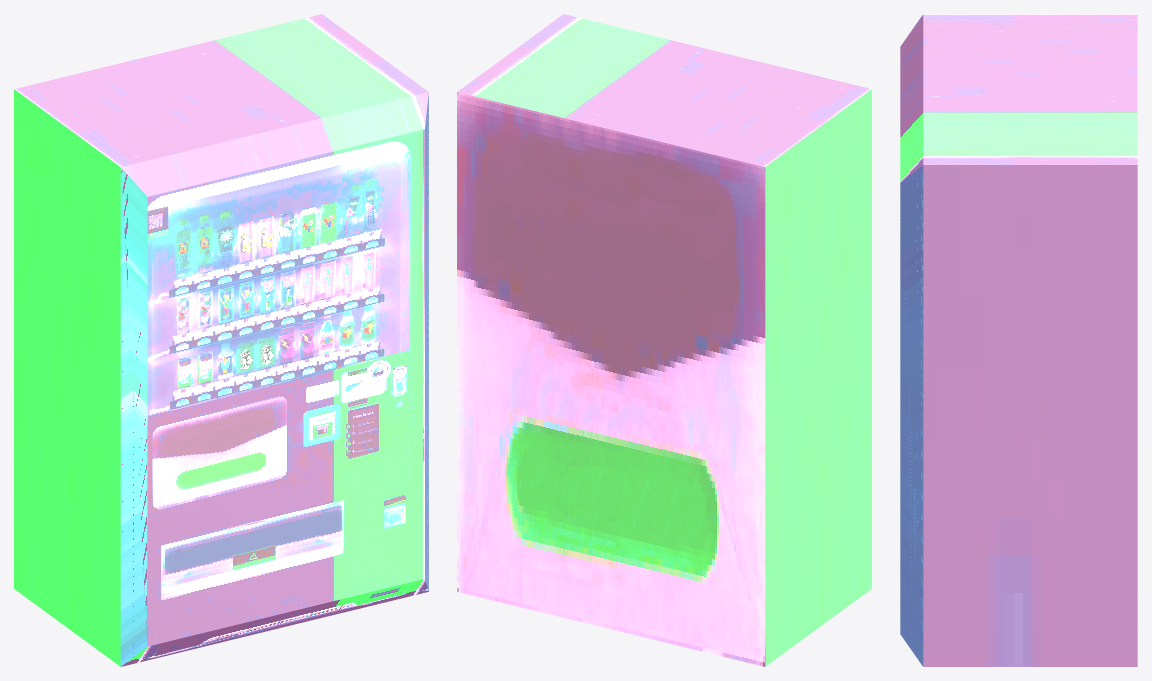
File: urn_vendmachine.glb
The picture shows the model from 3 angles, left to right: view 1: azimuth 30°, elevation 25°; view 2: azimuth 150°, elevation 25°; view 3: azimuth 270°, elevation 25°; orthographic projection.
Parts seen in each view (by area): view 1: urn_vendmachine; view 2: urn_vendmachine; view 3: urn_vendmachine.
Boxes of the visible parts, left/top/right/bottom form: urn_vendmachine: left=14, top=14, right=428, bottom=666; urn_vendmachine: left=457, top=14, right=871, bottom=666; urn_vendmachine: left=900, top=14, right=1137, bottom=666.
Bounding box in the file's own units: 2 × 3.1 × 1.33.
